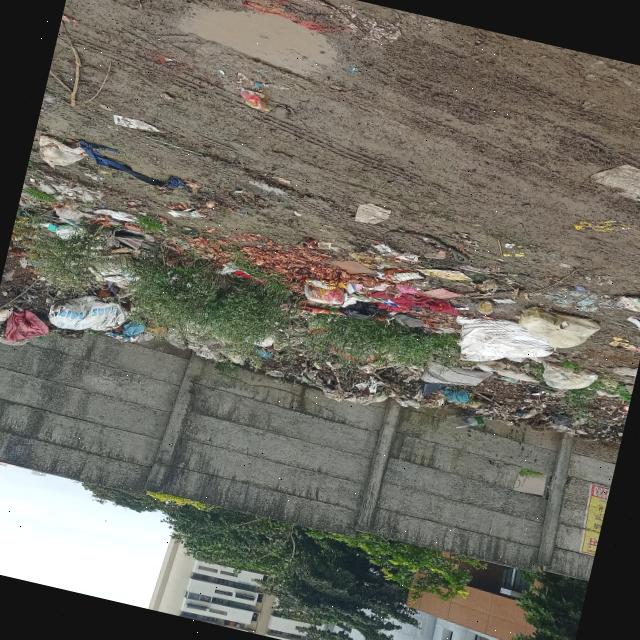garbage: (0, 171, 639, 466)
